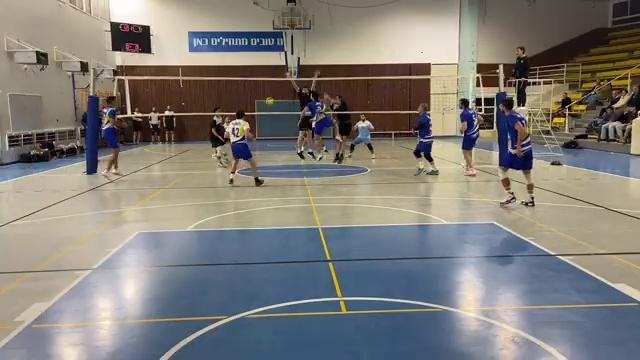ball: (264, 95, 277, 104)
